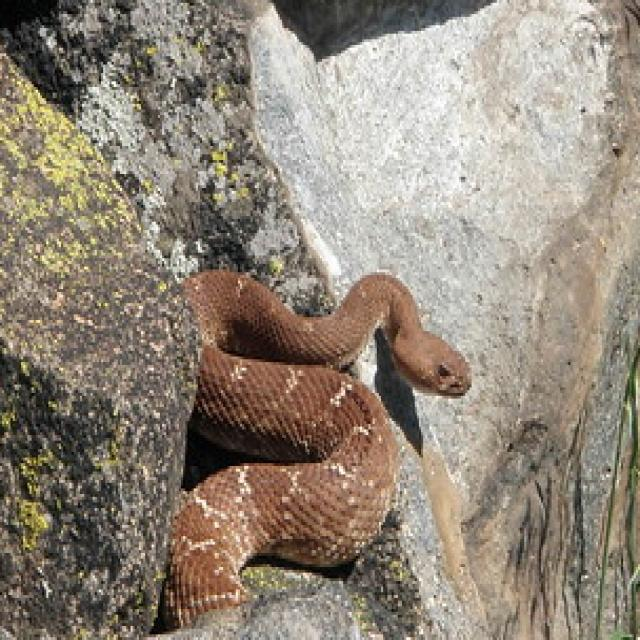Snake: (164, 264, 474, 629)
